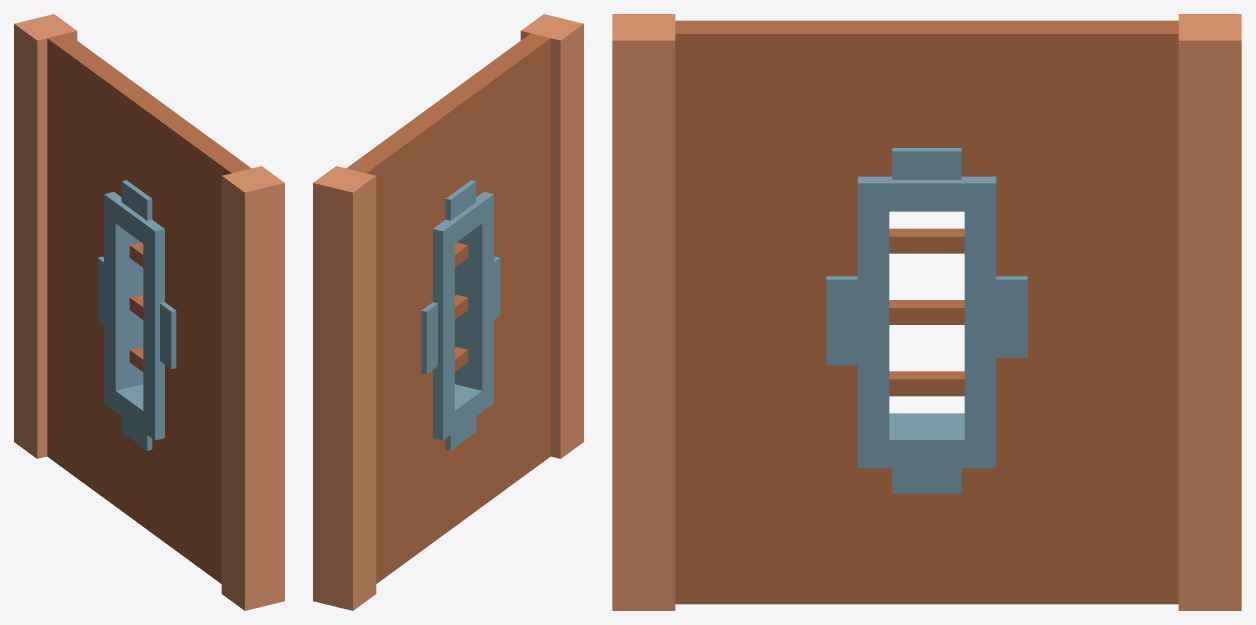
File: wallWoodWindowStone.obj
The picture shows the model from 3 angles, left to right: view 1: azimuth 30°, elevation 25°; view 2: azimuth 150°, elevation 25°; view 3: azimuth 270°, elevation 25°; orthographic projection. The views are drawn at different scales.
Visible parts, largest first — view 1: wallWoodWindowStone; view 2: wallWoodWindowStone; view 3: wallWoodWindowStone.
Part boxes in pixels (box(x1,y1,x2,y2)): wallWoodWindowStone: box(14, 14, 284, 610); wallWoodWindowStone: box(313, 14, 583, 610); wallWoodWindowStone: box(612, 14, 1241, 610).
Size of the model in its own units: 0.1 by 1 by 1.
